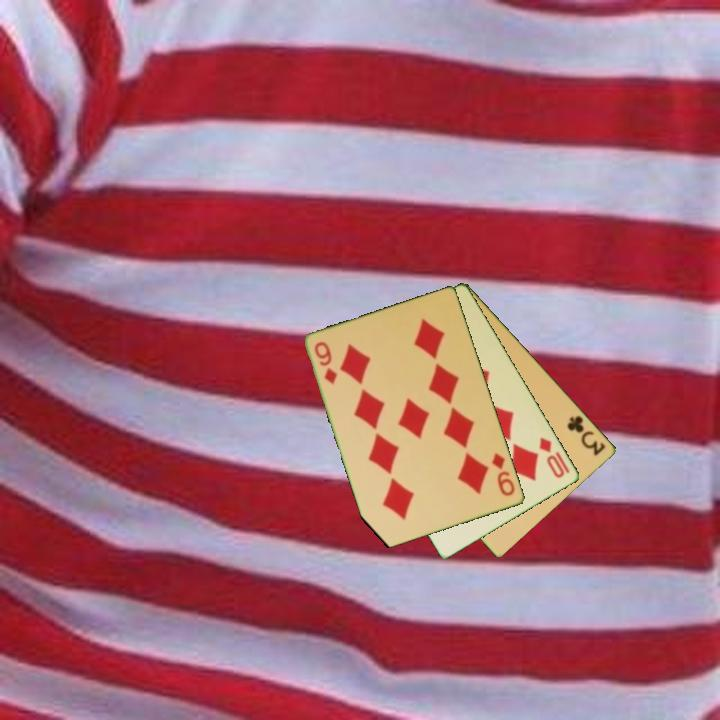10d: (536, 434, 568, 481)
3c: (564, 412, 609, 459)
9d: (311, 338, 341, 388), (489, 449, 518, 499)
